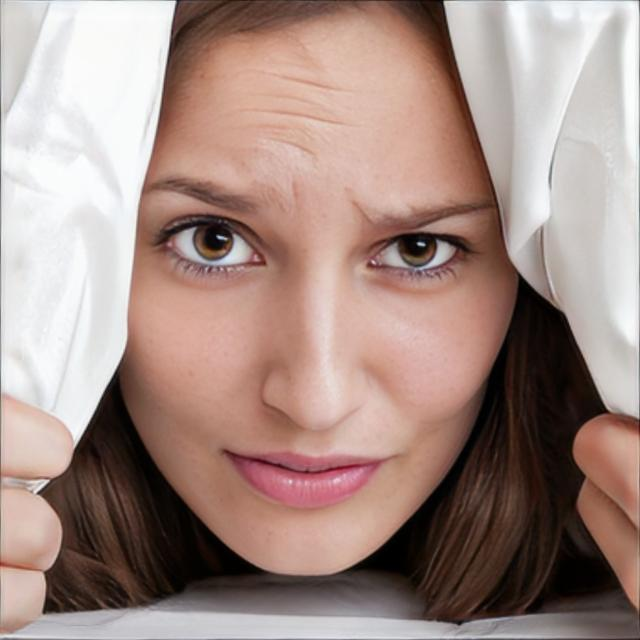disgust: (117, 0, 521, 579)
